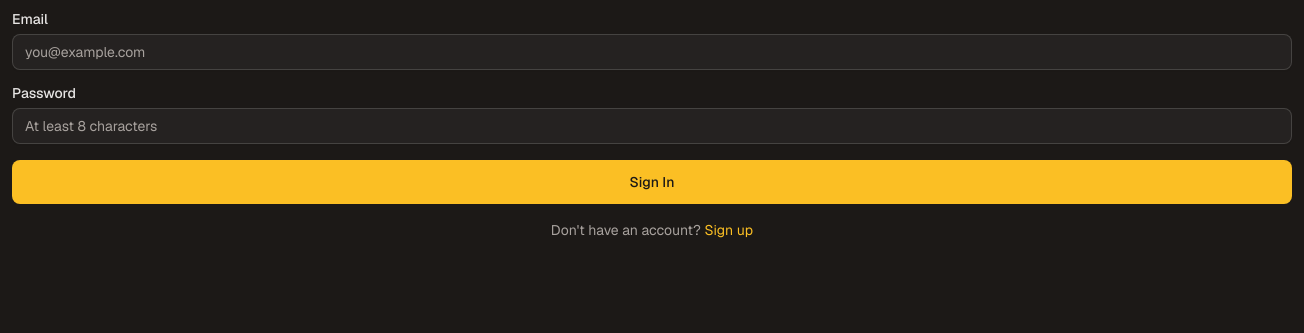
Test: EmailPasswordForm › toggles back to sign-in mode
Step 1. Click the button "Sign up" → (729, 230), box [704,220,753,240]
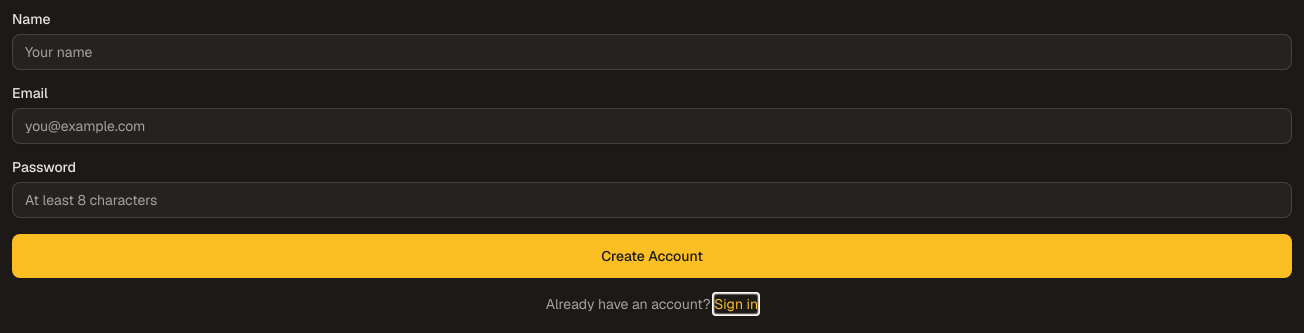
Step 2. Click the button "Sign in" → (736, 304), box [714,294,758,314]
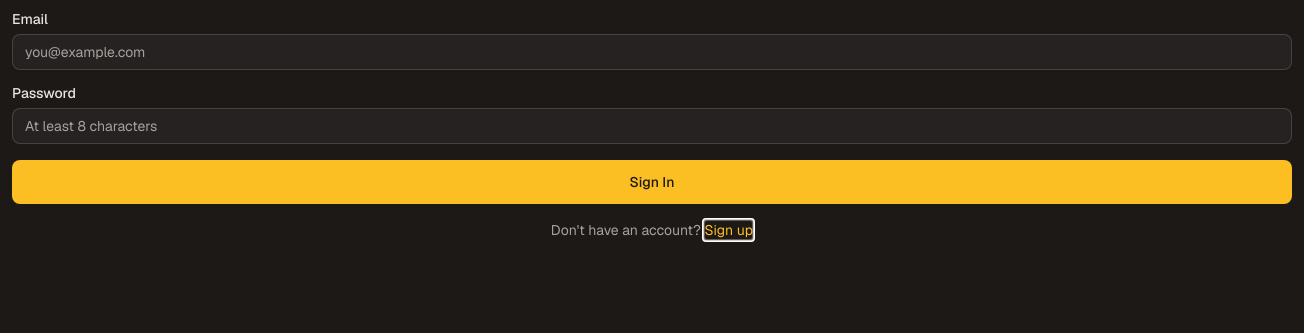
Check: the label labelled "Name" is gone
Check: the button "Sign In" is shown, box [12,160,1292,204]
